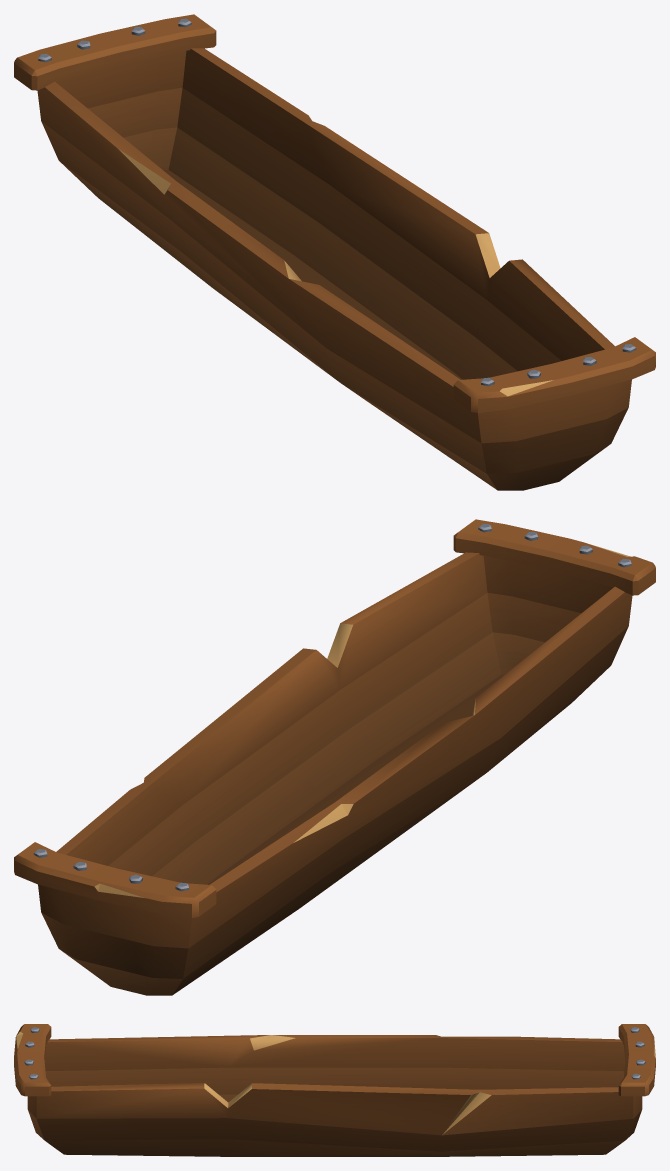
Rendered from Trough_1_A.glb.
3 renders of one model, top to bottom at view 1: azimuth 30°, elevation 25°; view 2: azimuth 150°, elevation 25°; view 3: azimuth 270°, elevation 25°, orthographic. The views are drawn at different scales.
Parts seen in each view (by area): view 1: Trough_1_A; view 2: Trough_1_A; view 3: Trough_1_A.
Part boxes in pixels (x1,y1,x2,y2): Trough_1_A: (14,14,655,490); Trough_1_A: (14,519,655,995); Trough_1_A: (14,1024,655,1156).
Bounding box in the file's own units: 0.7368 × 0.509 × 3.25.
Materials: 2 (2 with a texture image).
